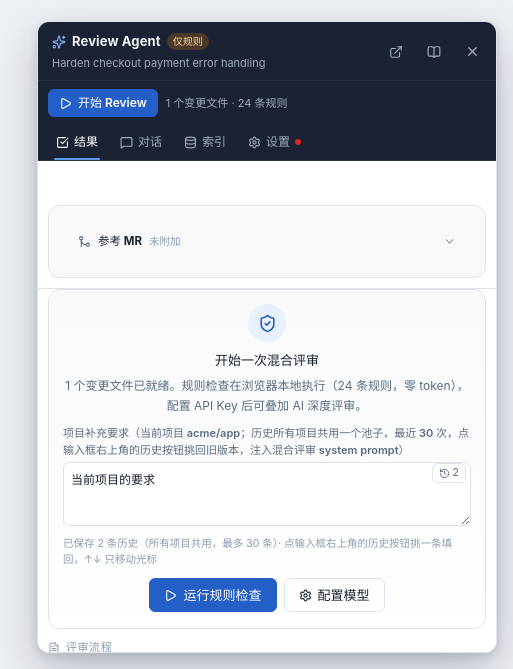
Test: 起始页跨项目共用一个历史池 › 别的项目存过的历史也在列表里，右下角标出来源项目
Expected: the text "开始一次混合评审" is shown, [215,352,319,368]
Expected: the button "开始 Review" is enabled, [48,89,158,117]
Step 1. Click the button named "项目补充要求历史" → (449, 473), box [432,463,466,483]
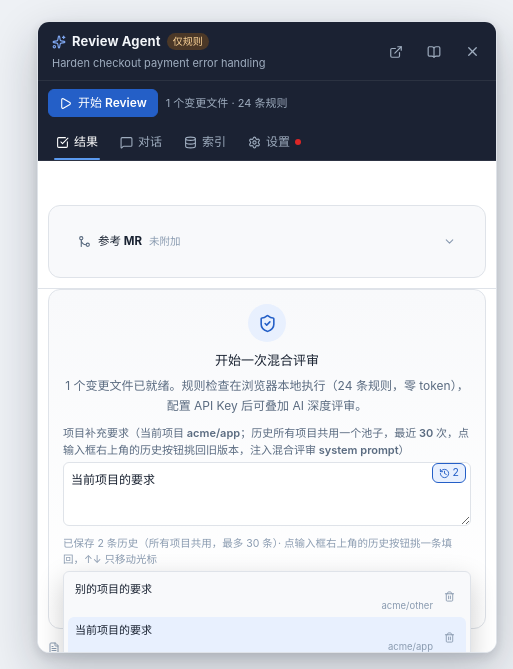
Result: the number of options is 2 at [68,576,466,617]; [68,617,466,652]
Result: the text "acme/other" is shown at [381,600,433,611]
Result: the text "acme/app" is shown at [388,641,433,652]
